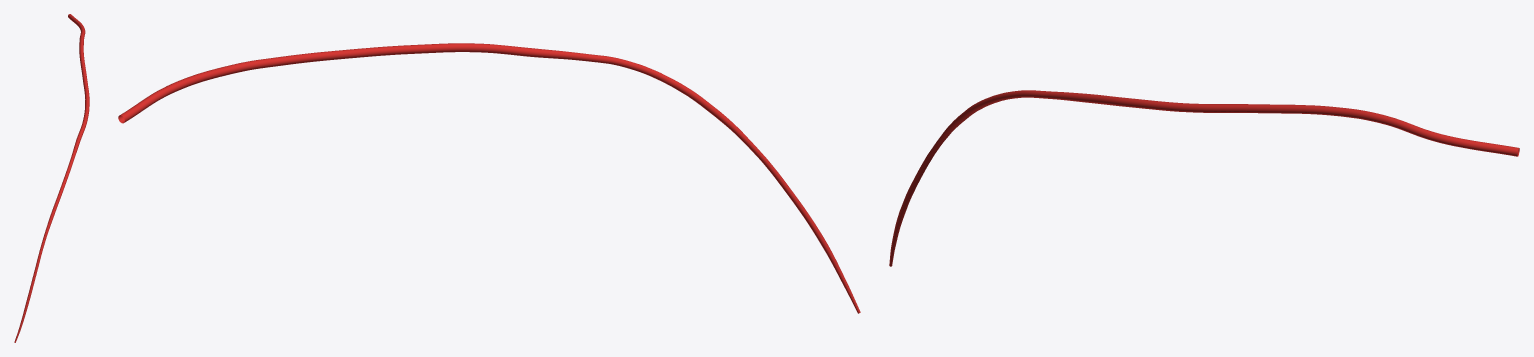
The model's file is circulatorio-frontal-branch-of-superficial-temporal-artery-l.glb.
3 renders of one model, left to right at view 1: azimuth 30°, elevation 25°; view 2: azimuth 150°, elevation 25°; view 3: azimuth 270°, elevation 25°, orthographic. The views are drawn at different scales.
Visible parts, largest first — view 1: Frontal branch of superficial temporal artery.l; view 2: Frontal branch of superficial temporal artery.l; view 3: Frontal branch of superficial temporal artery.l.
Part boxes in pixels (x1,y1,x2,y2): Frontal branch of superficial temporal artery.l: [14, 14, 89, 342]; Frontal branch of superficial temporal artery.l: [118, 43, 860, 313]; Frontal branch of superficial temporal artery.l: [889, 90, 1519, 266].
Bounding box in the file's own units: 0.0333 × 0.0249 × 0.0424.
